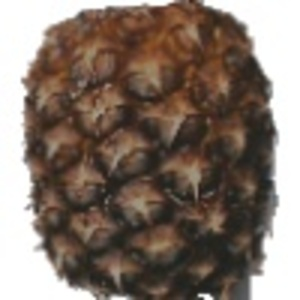abacaxi: (21, 2, 280, 293)
